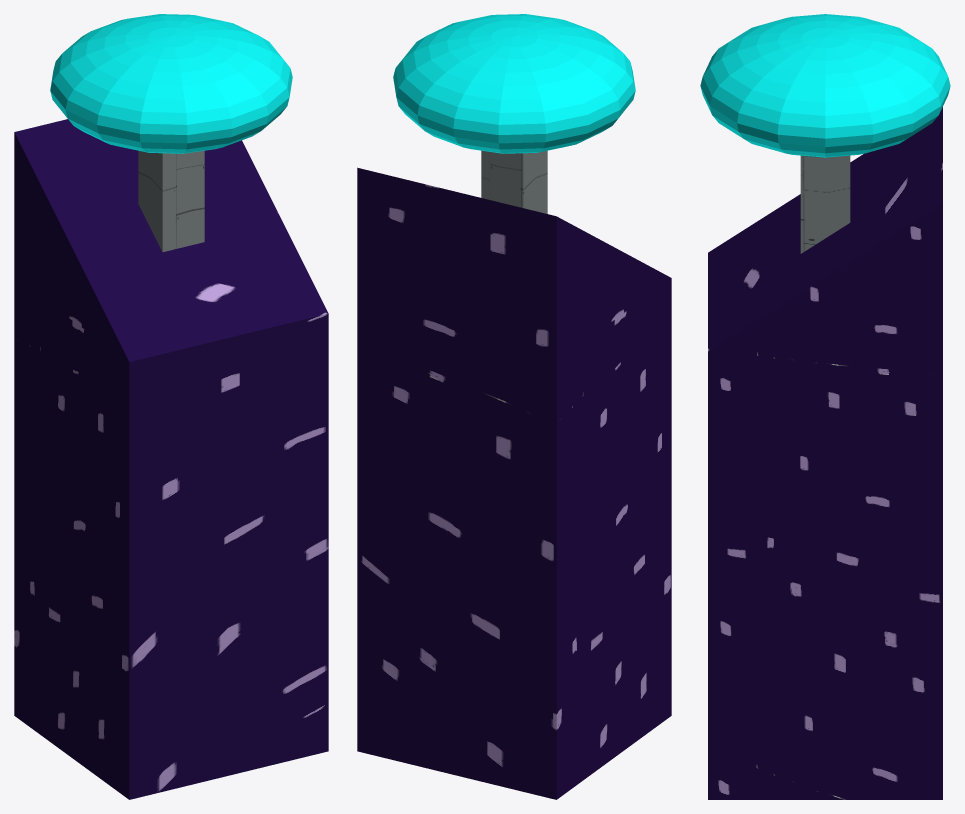
Rendered from Building1.fbx.
The picture shows the model from 3 angles, left to right: view 1: azimuth 30°, elevation 25°; view 2: azimuth 150°, elevation 25°; view 3: azimuth 270°, elevation 25°; orthographic projection. The views are drawn at different scales.
Parts seen in each view (by area): view 1: Cube, Sphere, Cube.001; view 2: Cube, Sphere, Cube.001; view 3: Cube, Sphere, Cube.001.
Boxes of the visible parts, x1=… form: Cube: x1=14, y1=119, x2=328, y2=799; Sphere: x1=50, y1=14, x2=292, y2=153; Cube.001: x1=138, y1=150, x2=204, y2=252; Cube: x1=357, y1=167, x2=671, y2=799; Sphere: x1=393, y1=14, x2=635, y2=153; Cube.001: x1=481, y1=150, x2=547, y2=213; Cube: x1=708, y1=107, x2=942, y2=799; Sphere: x1=700, y1=14, x2=950, y2=157; Cube.001: x1=800, y1=155, x2=850, y2=253.
Bounding box in the file's own units: 532 × 1672 × 532.
Materials: 1 (1 with a texture image).
